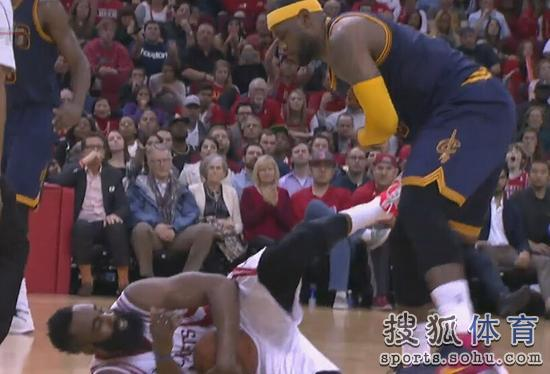10+: (3, 4, 548, 369)
down: (49, 169, 414, 370)
